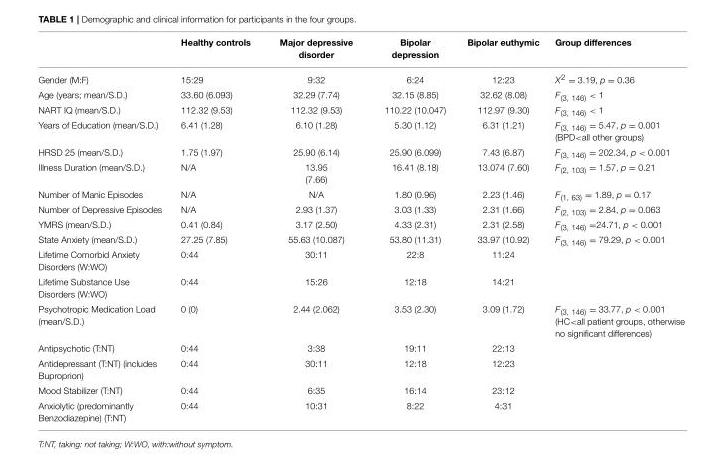table: (37, 37, 683, 422)
table column: (546, 37, 683, 422), (37, 37, 170, 422), (264, 37, 367, 422), (170, 37, 264, 422), (455, 37, 546, 422), (367, 37, 455, 422)
table column header: (37, 37, 683, 65)
table row: (37, 301, 683, 340), (37, 37, 683, 65), (37, 355, 683, 383), (37, 274, 683, 301), (37, 118, 683, 144), (37, 160, 683, 186), (37, 248, 683, 274), (37, 398, 683, 422), (37, 65, 683, 87), (37, 87, 683, 103), (37, 144, 683, 160), (37, 186, 683, 202), (37, 217, 683, 233), (37, 103, 683, 118), (37, 202, 683, 217), (37, 233, 683, 248), (37, 340, 683, 355), (37, 383, 683, 398)
